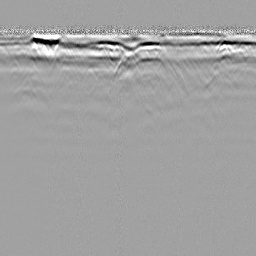cavity: (112, 49, 143, 77)
